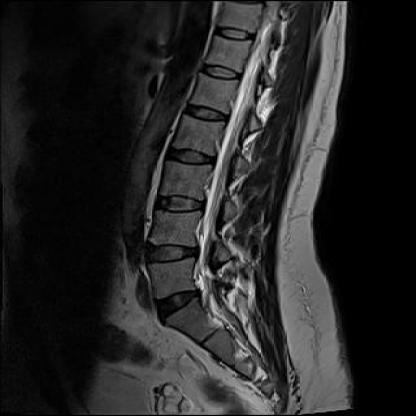Disc Bulgerotation: (150, 290, 211, 323), (141, 238, 203, 265)
